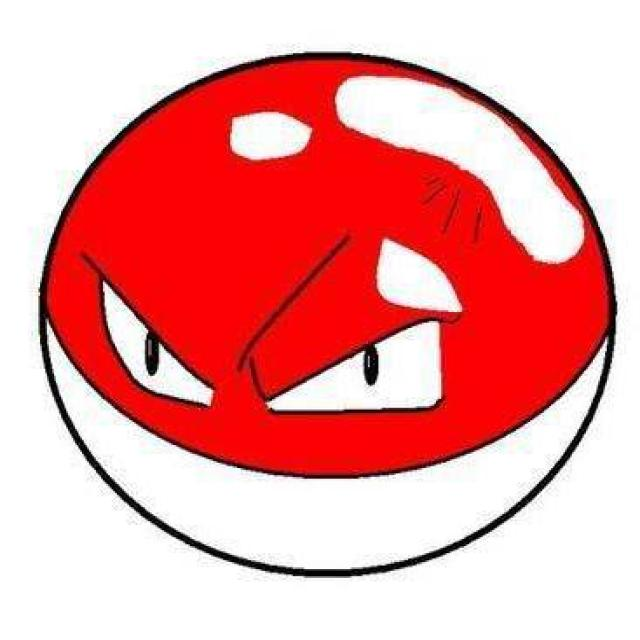Voltorb: (0, 28, 640, 596)
